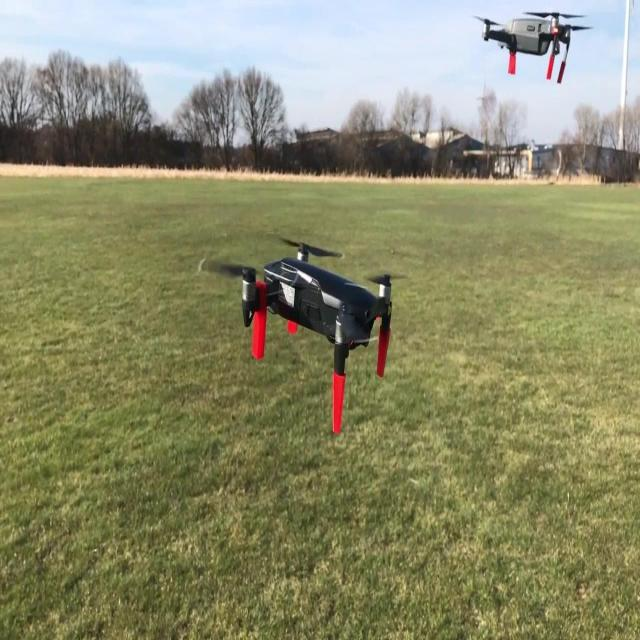drone: (236, 234, 401, 440), (475, 5, 591, 89)
